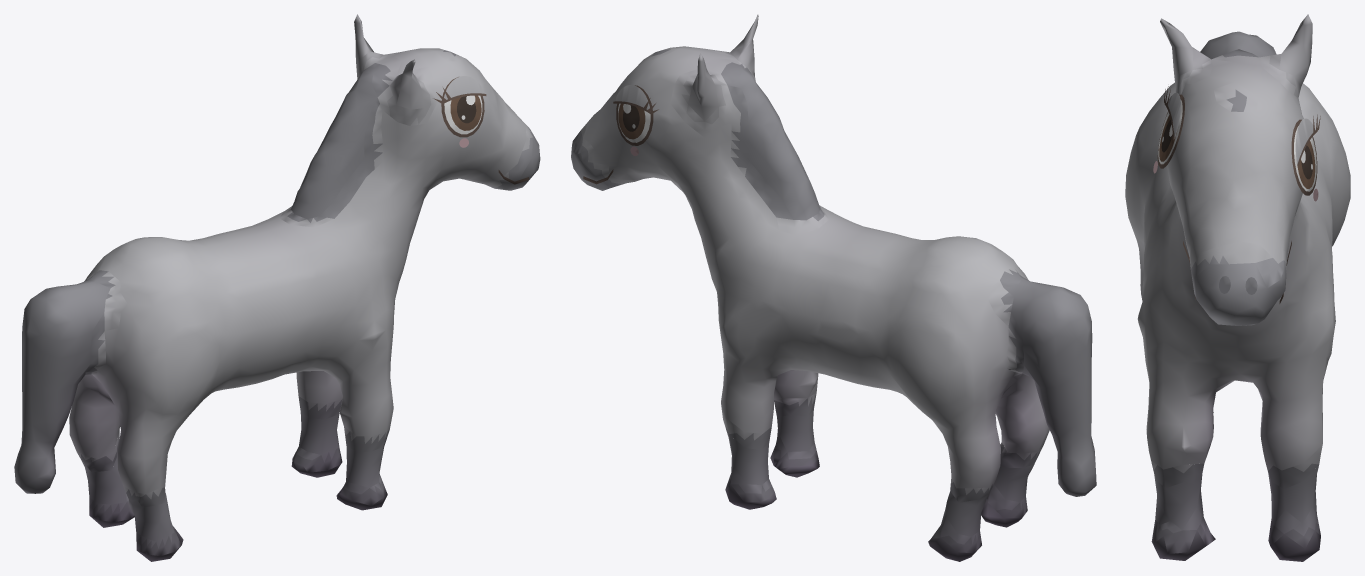
Rendered from gray_horse.glb.
3 views of the same model, side by side, from view 1: azimuth 30°, elevation 25°; view 2: azimuth 150°, elevation 25°; view 3: azimuth 270°, elevation 25° (orthographic). The views are drawn at different scales.
Visible parts, largest first — view 1: gray_horse; view 2: gray_horse; view 3: gray_horse.
Part boxes in pixels (x1,y1,x2,y2): gray_horse: [14, 14, 540, 561]; gray_horse: [571, 14, 1096, 561]; gray_horse: [1125, 14, 1350, 561].
Size of the model in its own units: 1.11 by 0.915 by 0.3281.
